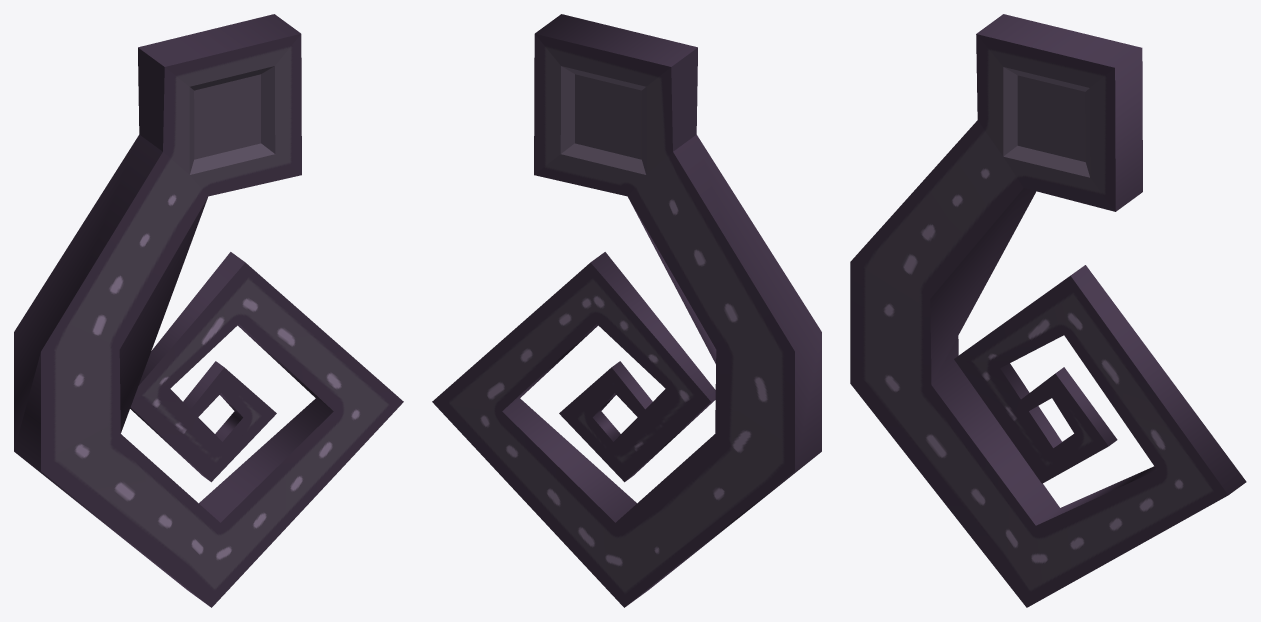
File: warp.fbx
3 views of the same model, side by side, from view 1: azimuth 30°, elevation 25°; view 2: azimuth 150°, elevation 25°; view 3: azimuth 330°, elevation 25° (orthographic).
Parts seen in each view (by area): view 1: pCube1; view 2: pCube1; view 3: pCube1.
Part boxes in pixels (x1,y1,x2,y2): pCube1: (14, 14, 403, 607); pCube1: (432, 14, 821, 607); pCube1: (850, 14, 1246, 607).
Bounding box in the file's own units: 11.6 × 16.7 × 1.47.
1 material, 1 textured.
